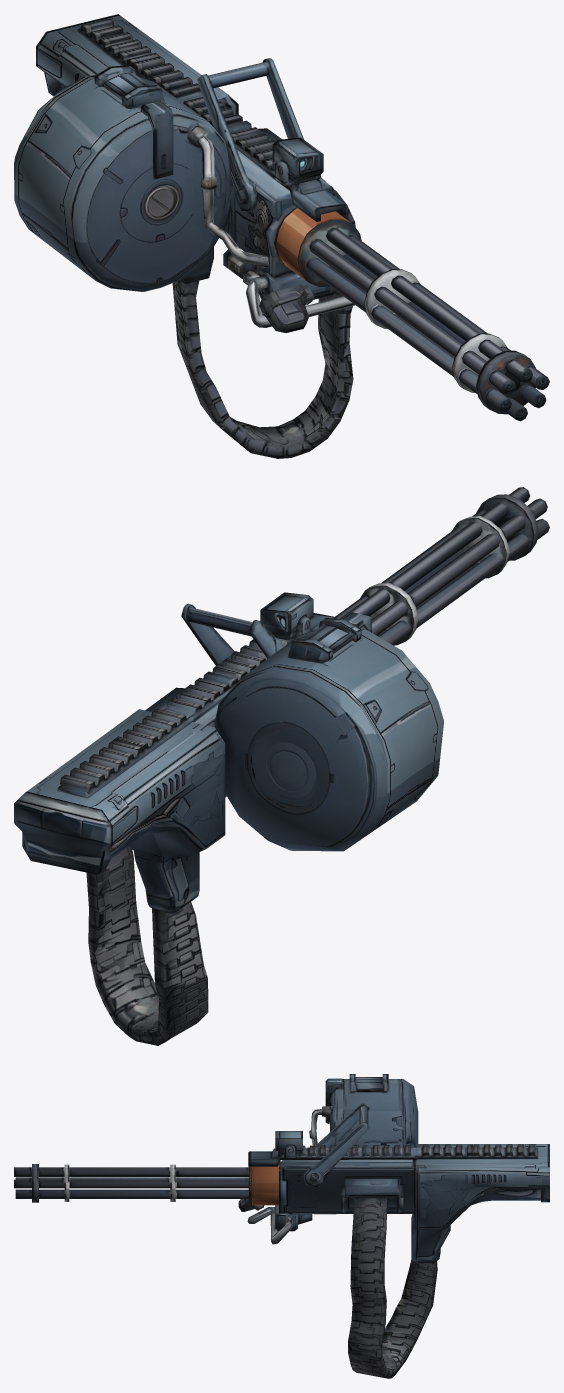
3 views of the same model, one above another, from view 1: azimuth 30°, elevation 25°; view 2: azimuth 150°, elevation 25°; view 3: azimuth 270°, elevation 25° (orthographic). The views are drawn at different scales.
Parts seen in each view (by area): view 1: gun, spin; view 2: gun, spin; view 3: gun, spin.
Boxes of the visible parts, x1,y1,x2,y2 form: gun: (14, 14, 355, 458); spin: (274, 204, 549, 421); gun: (14, 592, 443, 1045); spin: (335, 487, 549, 645); gun: (238, 1074, 549, 1378); spin: (14, 1161, 282, 1205).
Size of the model in its own units: 3.16 by 4.05 by 7.8.
1 material, 1 textured.
